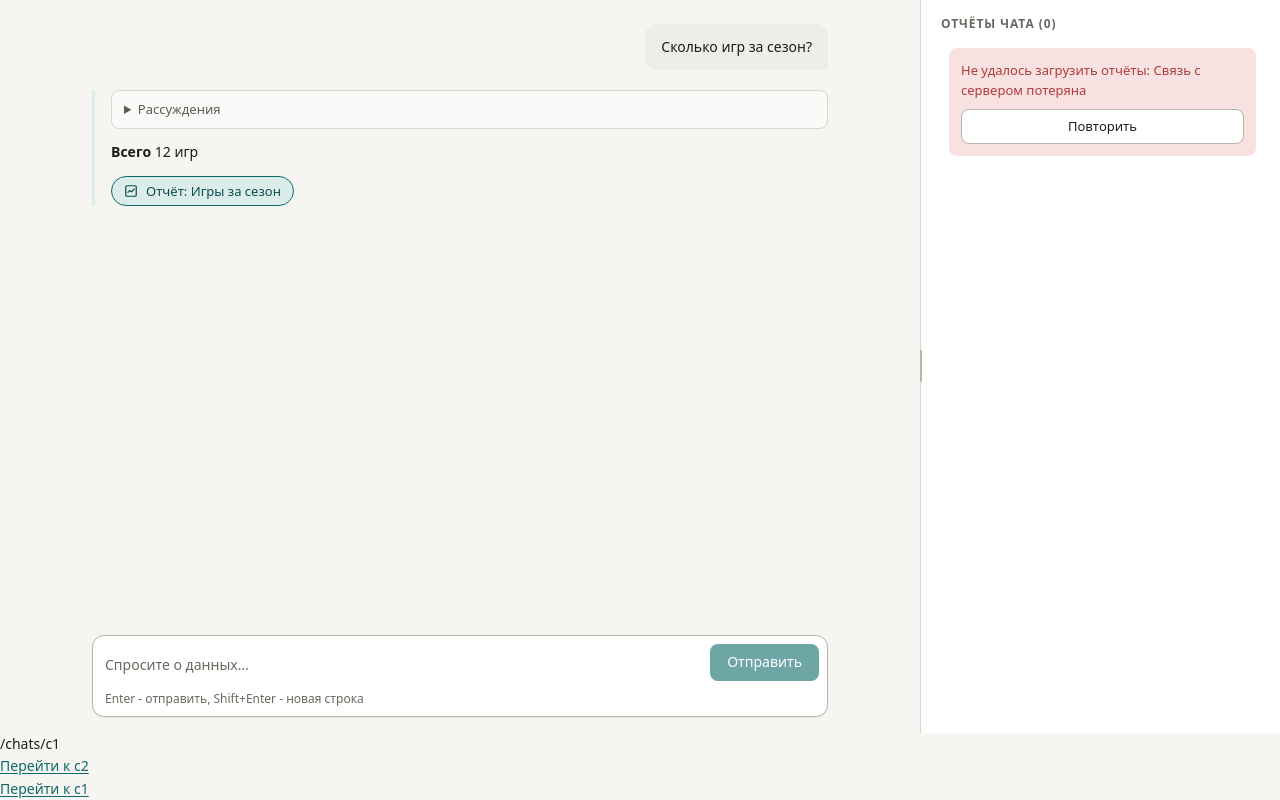
ChatView composer and send › sends a message: pending entry, POST with a 32-hex id, optimistic bubble, thinking mark, stop button
Step 1. Type "Какая команда набрала больше всего очков?" into the text box named "Сообщение" → (404, 666), box [105, 646, 702, 685]
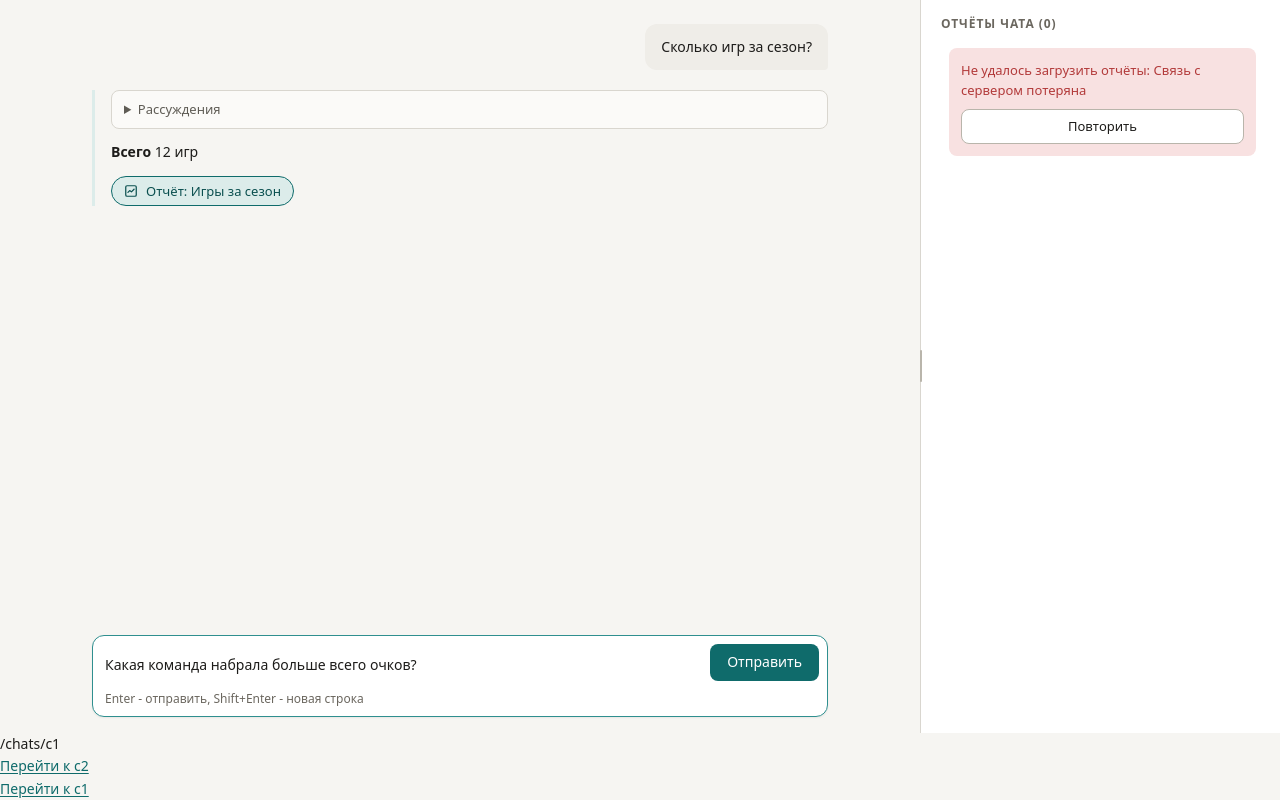
Step 2. Press Enter
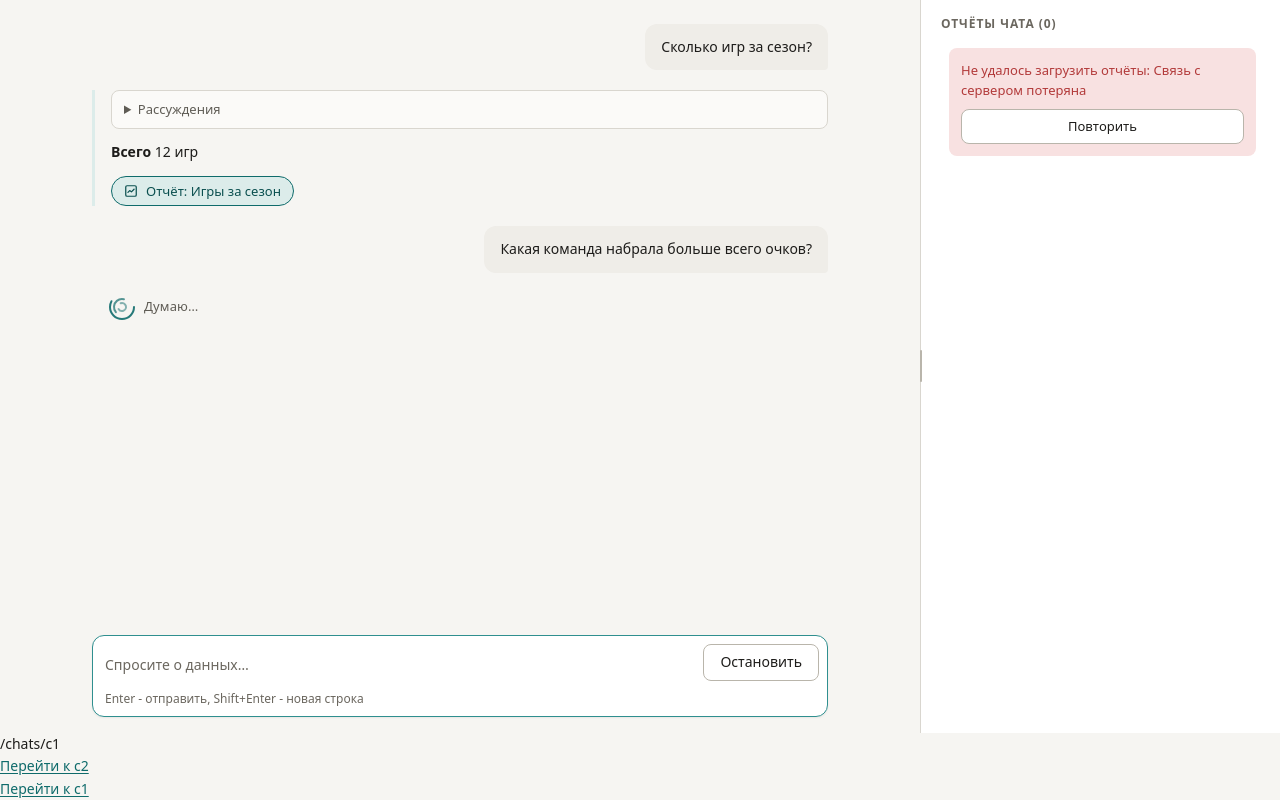
Check: the text "Какая команда набрала больше всего очков?" is shown, box [484, 226, 828, 273]
Check: the text box named "Сообщение" is empty, box [105, 646, 695, 685]
Check: the message "Думаю…" is shown, box [108, 293, 198, 321]
